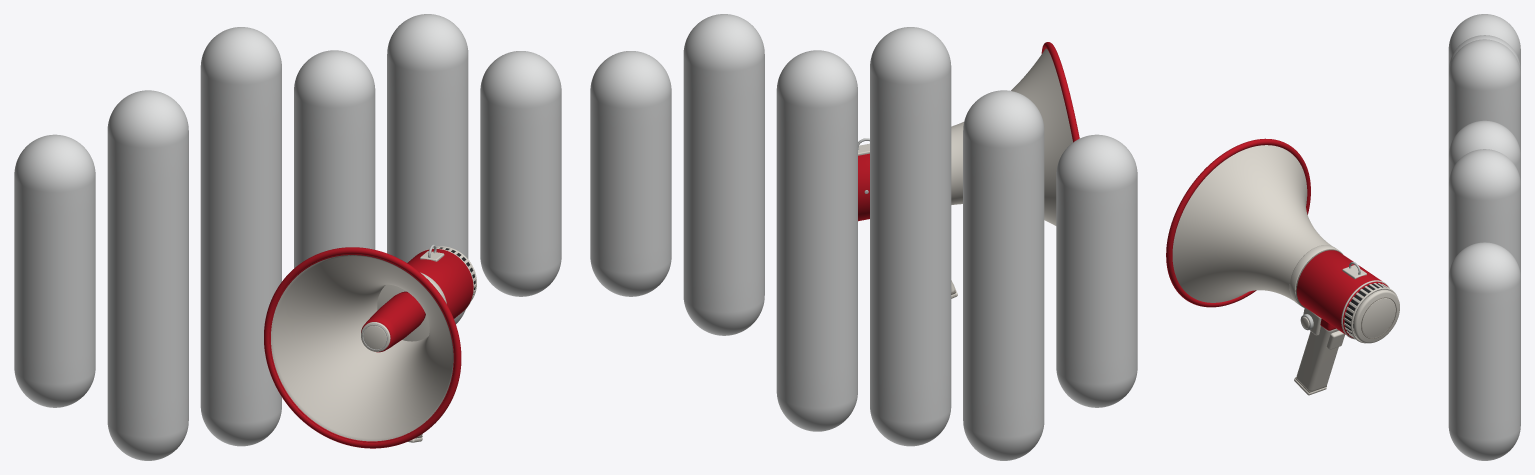
3 renders of one model, left to right at view 1: azimuth 30°, elevation 25°; view 2: azimuth 150°, elevation 25°; view 3: azimuth 270°, elevation 25°, orthographic. The views are drawn at different scales.
Visible parts, largest first — view 1: Liquid glass capsule 03, Liquid glass capsule 02, Flared hollow horn, Liquid glass capsule 01, Liquid glass capsule 05, Liquid glass capsule 06, Liquid glass capsule 04, Rounded mouth lip, Rear motor housing, Inner central driver, Horn rim inner bead, Ivory neck collar; view 2: Liquid glass capsule 03, Liquid glass capsule 04, Liquid glass capsule 02, Liquid glass capsule 05, Liquid glass capsule 01, Liquid glass capsule 06, Flared hollow horn, Rounded mouth lip, Rear motor housing; view 3: Flared hollow horn, Liquid glass capsule 06, Liquid glass capsule 05, Liquid glass capsule 03, Rear motor housing, Rounded mouth lip, Liquid glass capsule 04, Ergonomic handle, Liquid glass capsule 01, Rear cap inset, Rear cap, Ivory neck collar (+1 smaller).
Boxes of the visible parts, left/top/right/bottom form: Liquid glass capsule 03: left=200, top=27, right=281, bottom=446; Liquid glass capsule 02: left=107, top=90, right=188, bottom=460; Flared hollow horn: left=271, top=255, right=453, bottom=441; Liquid glass capsule 01: left=14, top=134, right=95, bottom=407; Liquid glass capsule 05: left=387, top=14, right=468, bottom=323; Liquid glass capsule 06: left=480, top=51, right=561, bottom=296; Liquid glass capsule 04: left=294, top=50, right=375, bottom=268; Rounded mouth lip: left=264, top=247, right=461, bottom=448; Rear motor housing: left=407, top=249, right=473, bottom=318; Inner central driver: left=361, top=291, right=425, bottom=352; Horn rim inner bead: left=269, top=254, right=454, bottom=442; Ivory neck collar: left=377, top=272, right=446, bottom=341; Liquid glass capsule 03: left=870, top=27, right=951, bottom=446; Liquid glass capsule 04: left=776, top=50, right=857, bottom=431; Liquid glass capsule 02: left=963, top=90, right=1044, bottom=460; Liquid glass capsule 05: left=683, top=14, right=764, bottom=335; Liquid glass capsule 01: left=1056, top=134, right=1137, bottom=407; Liquid glass capsule 06: left=590, top=51, right=671, bottom=296; Flared hollow horn: left=951, top=48, right=1072, bottom=225; Rounded mouth lip: left=1041, top=42, right=1079, bottom=142; Rear motor housing: left=858, top=153, right=869, bottom=221; Flared hollow horn: left=1172, top=145, right=1331, bottom=302; Liquid glass capsule 06: left=1448, top=242, right=1520, bottom=460; Liquid glass capsule 05: left=1448, top=149, right=1520, bottom=276; Liquid glass capsule 03: left=1448, top=39, right=1520, bottom=154; Rear motor housing: left=1296, top=250, right=1387, bottom=338; Rounded mouth lip: left=1166, top=138, right=1310, bottom=307; Liquid glass capsule 04: left=1448, top=120, right=1520, bottom=183; Ergonomic handle: left=1296, top=326, right=1338, bottom=391; Liquid glass capsule 01: left=1448, top=14, right=1520, bottom=69; Rear cap inset: left=1362, top=298, right=1395, bottom=337; Rear cap: left=1353, top=289, right=1399, bottom=343; Ivory neck collar: left=1289, top=245, right=1343, bottom=307.
Bounding box in the file's own units: 5.18 × 3.88 × 3.34.
